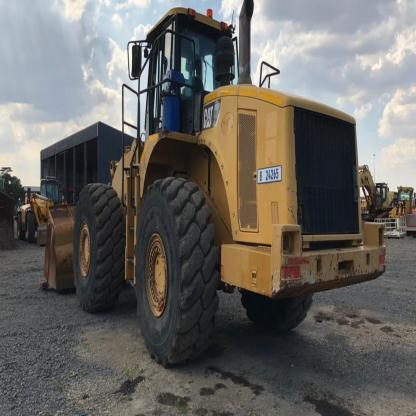bull_dozer/loader/grader: (31, 6, 390, 376)
